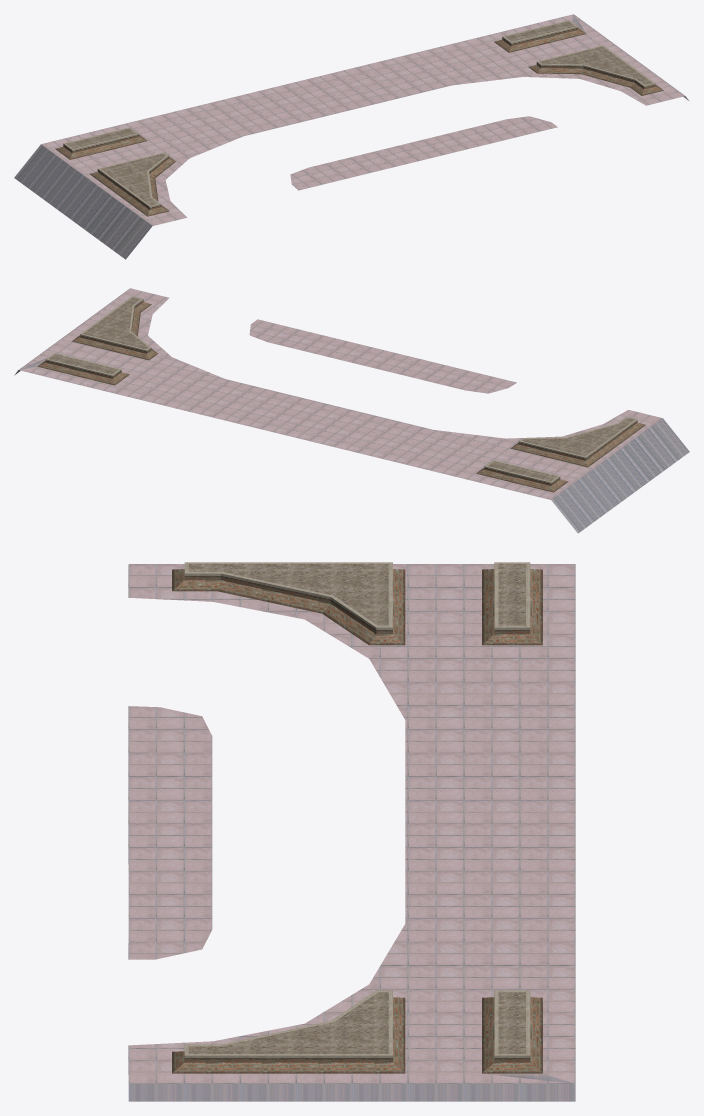
Rendered from hotelbits_sfe05.obj.
3 renders of one model, top to bottom at view 1: azimuth 30°, elevation 25°; view 2: azimuth 150°, elevation 25°; view 3: azimuth 270°, elevation 25°, orthographic. The views are drawn at different scales.
Visible parts, largest first — view 1: hotelbits_Sfe05; view 2: hotelbits_Sfe05; view 3: hotelbits_Sfe05.
Boxes of the visible parts, <box> form: hotelbits_Sfe05: <box>14,14,688,259</box>; hotelbits_Sfe05: <box>14,288,689,533</box>; hotelbits_Sfe05: <box>128,562,575,1101</box>.
Bounding box in the file's own units: 58.26 × 3.29 × 20.01.
Materials: 3 (3 with a texture image).
